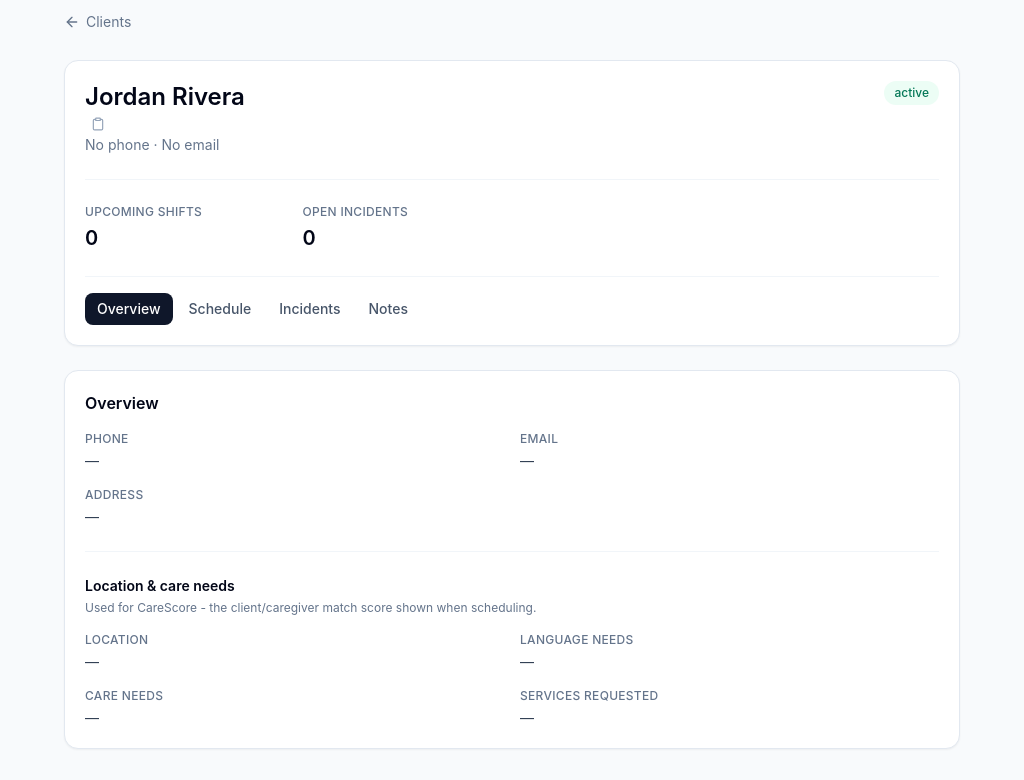
ClientDetailPage › switches to the Notes tab and shows a read-only user's care notes as text
The width and height of the screenshot is (1024, 780).
Expected: the heading "Jordan Rivera" is shown, [85,81,245,113]
Click the button "Notes" at (388, 309), box [356,293,420,325]
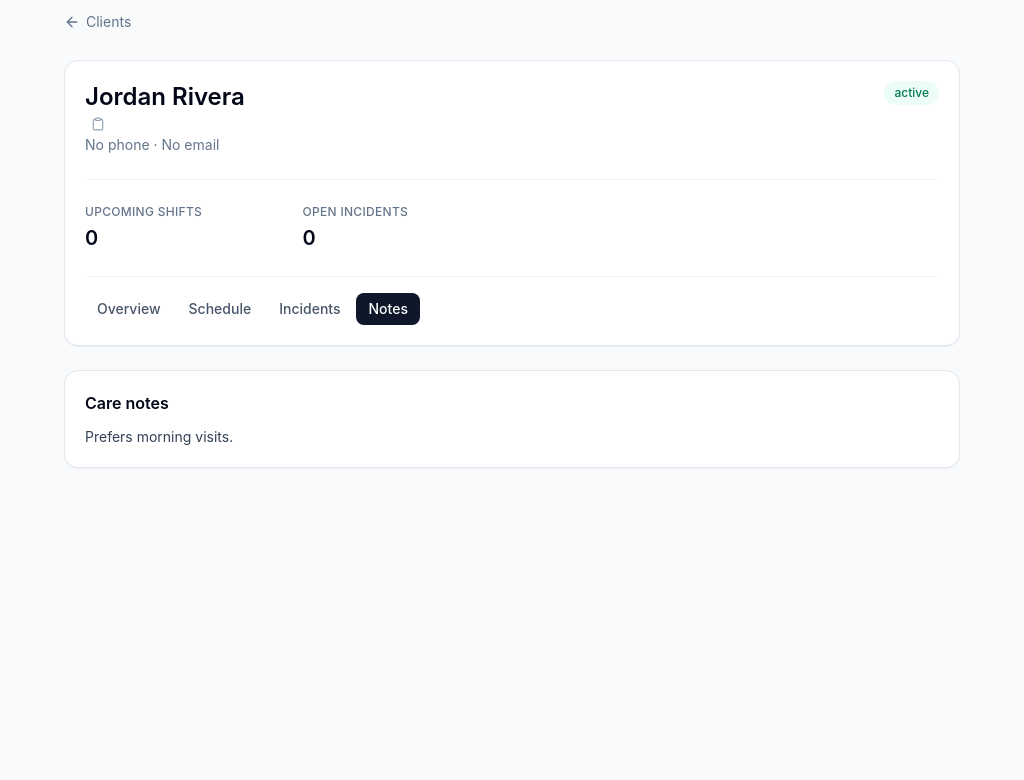
Result: the text "Prefers morning visits." is shown at [85,428,233,445]
